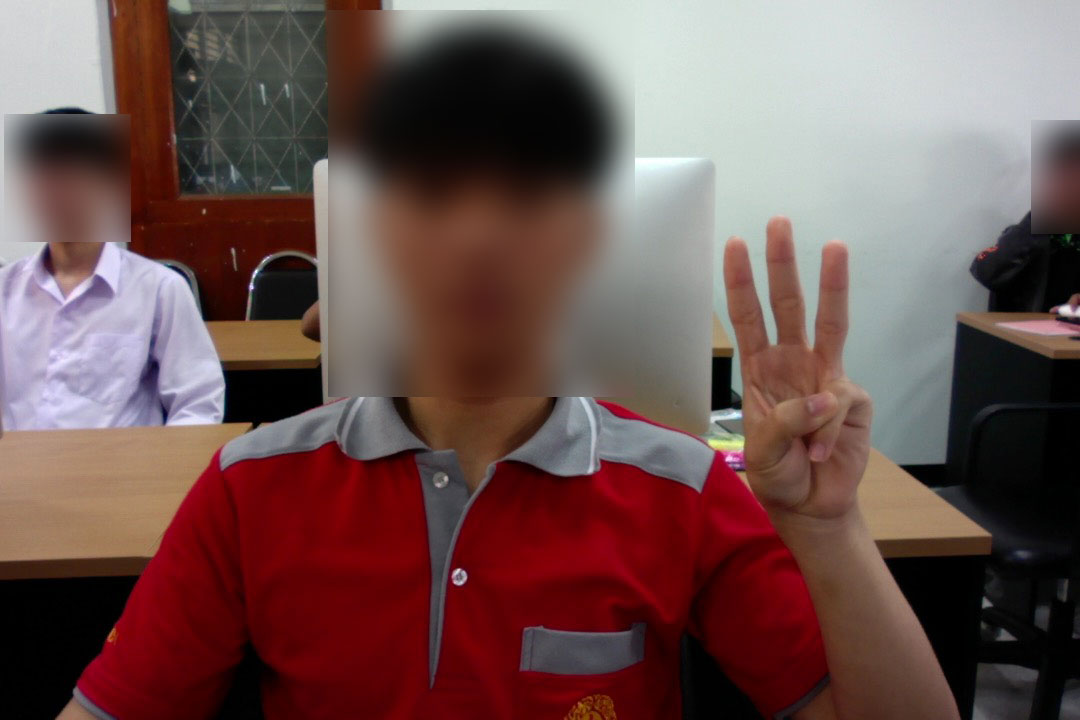wor: (715, 208, 880, 525)
